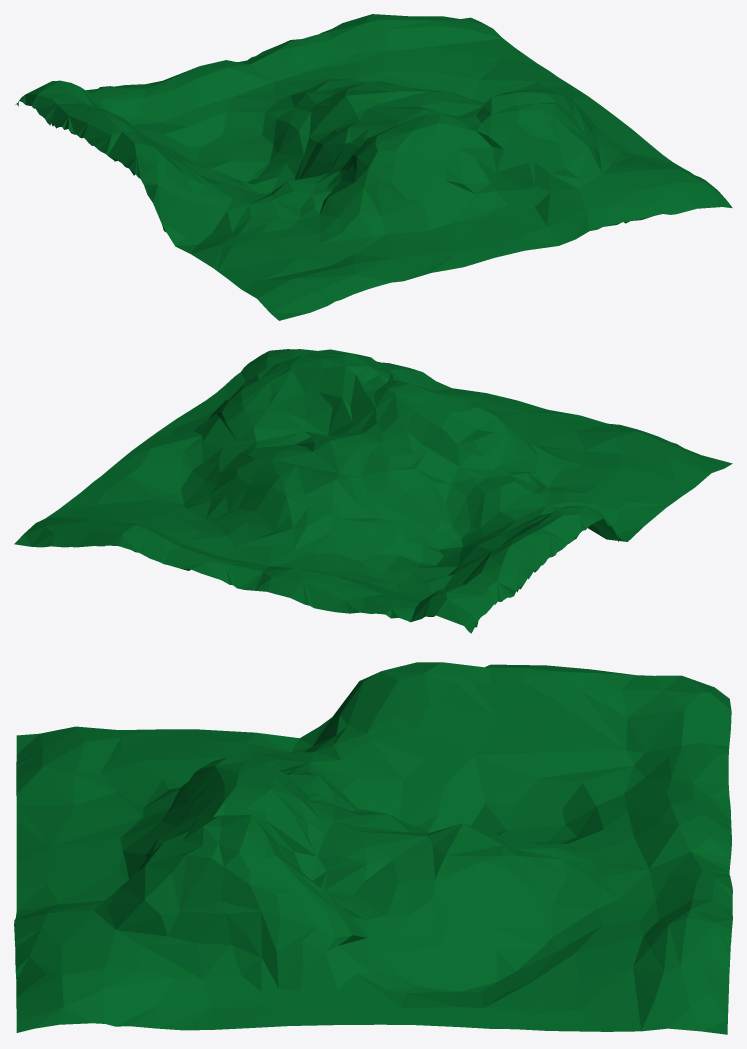
File: LowPolyTerrain.fbx
3 views of the same model, one above another, from view 1: azimuth 30°, elevation 25°; view 2: azimuth 150°, elevation 25°; view 3: azimuth 270°, elevation 25° (orthographic). The views are drawn at different scales.
Visible parts, largest first — view 1: pPlane1; view 2: pPlane1; view 3: pPlane1.
Part boxes in pixels (bbox=[...]): pPlane1: bbox=[15, 14, 732, 320]; pPlane1: bbox=[14, 349, 732, 633]; pPlane1: bbox=[14, 662, 732, 1034].
Bounding box in the file's own units: 25.39 × 5.35 × 25.3.
